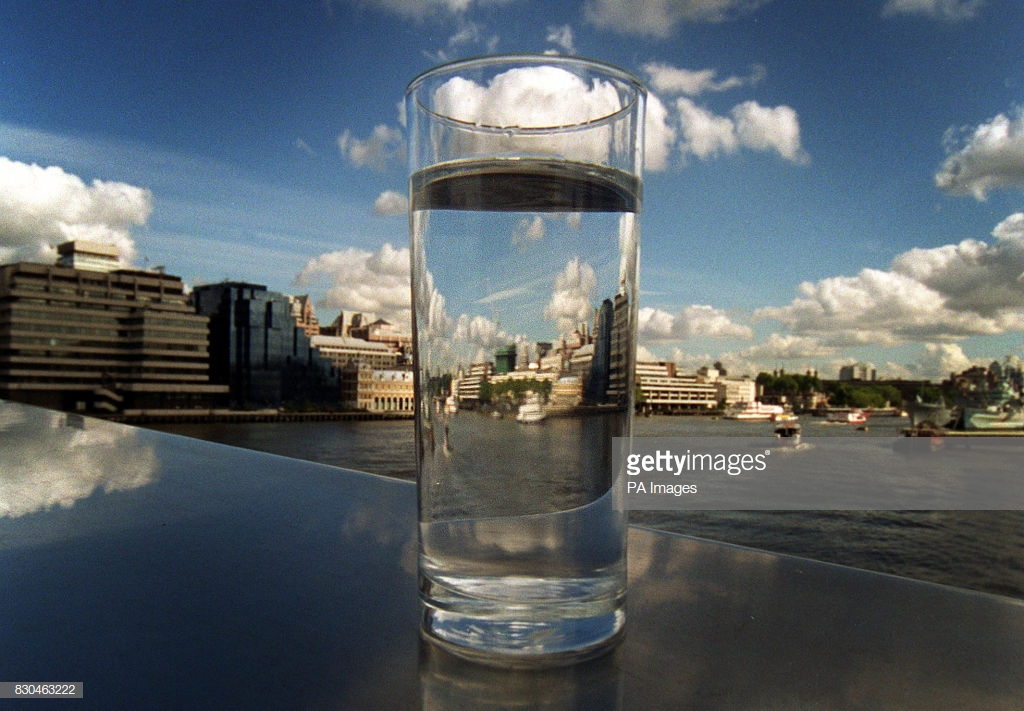glass of water: (414, 88, 609, 675)
